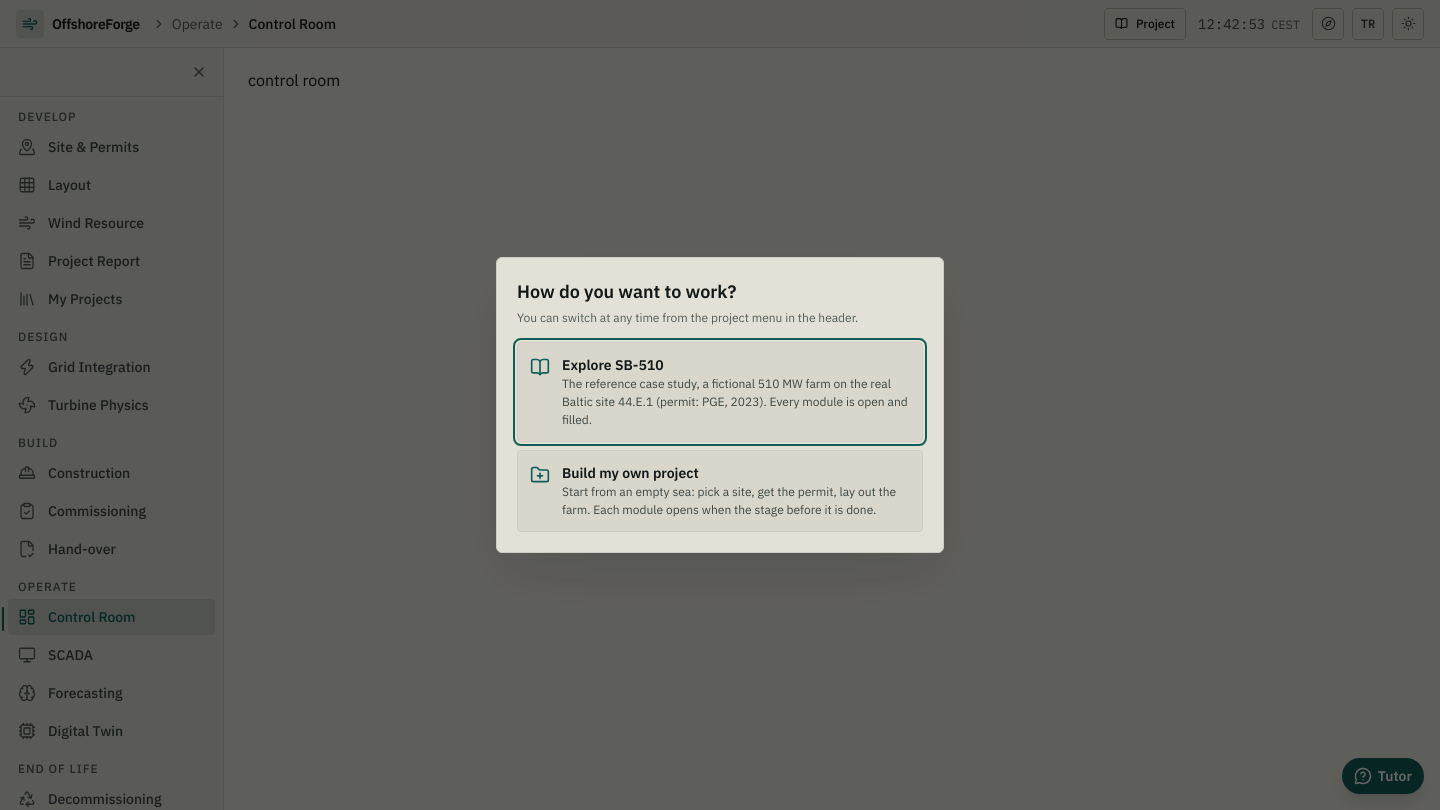
Test: project mode › asks how to work once the welcome is closed, and opens Site & Permits for an own project
This screenshot has width=1440, height=810.
Expected: the dialog "How do you want to work?" is shown, [496,257,944,553]
Click the button "Build my own project".
click(720, 491)  # box [517,450,923,532]
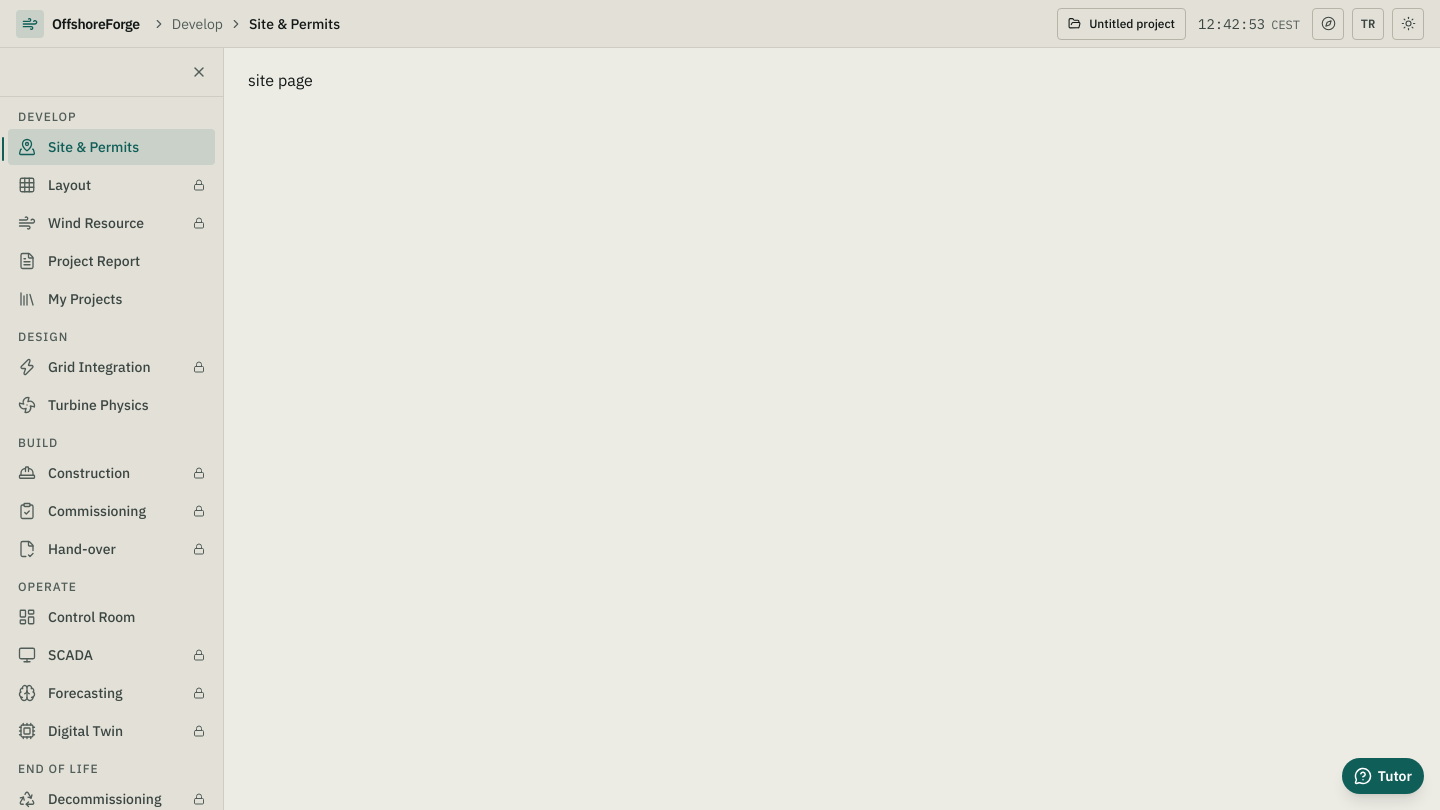
Expected: the text "site page" is shown, [248,70,313,90]
Expected: the dialog is gone
